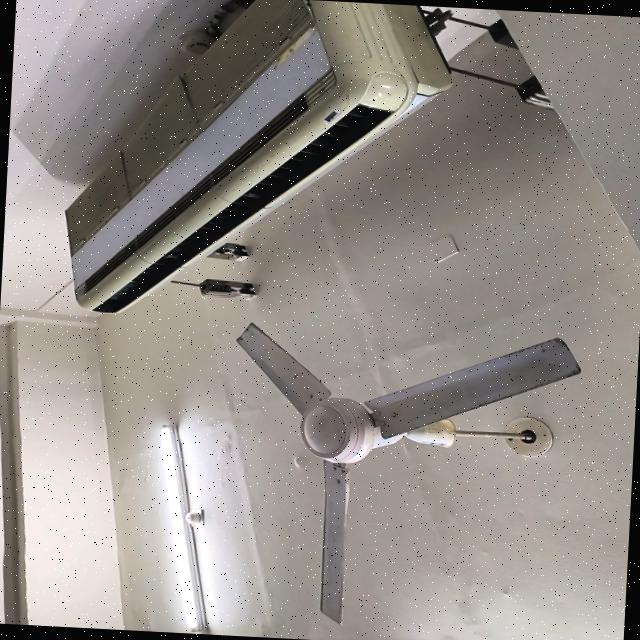Ac: (66, 0, 451, 312)
Light: (161, 424, 207, 631)
